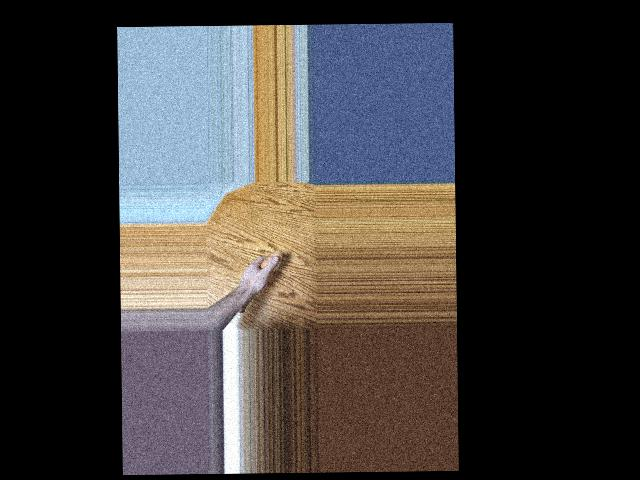sweet_potato: (233, 249, 283, 316)
